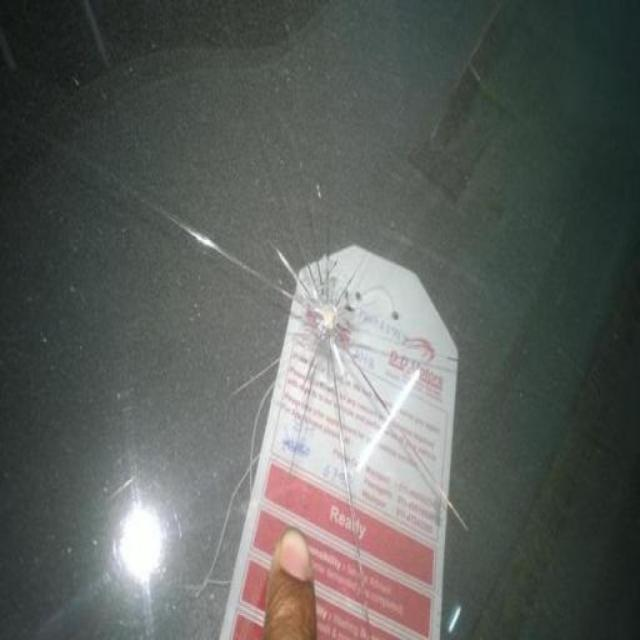glass shatter: (262, 228, 376, 384)
